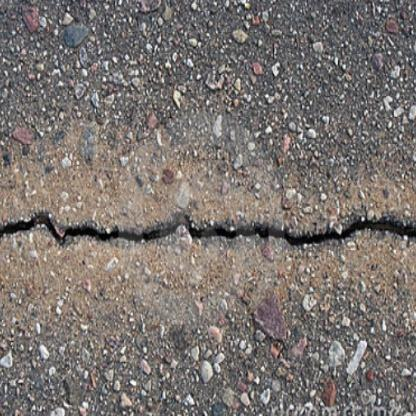Cracks: (0, 204, 416, 254)
